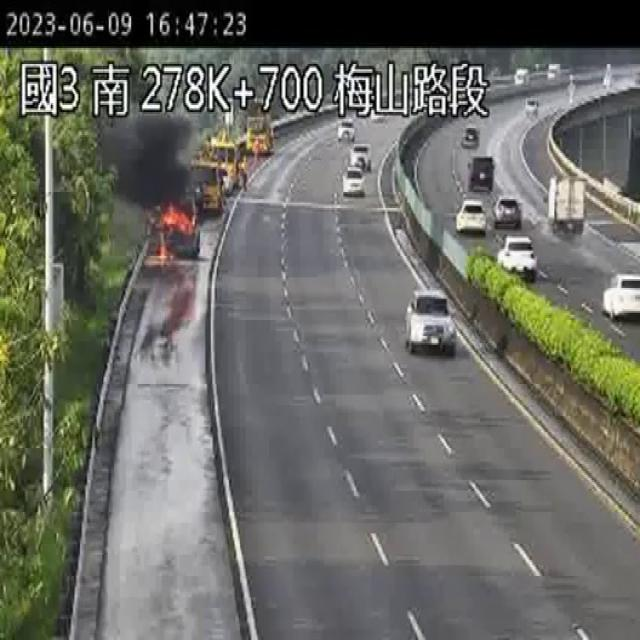Fire: (152, 202, 198, 264)
Smoke: (94, 106, 198, 212)
